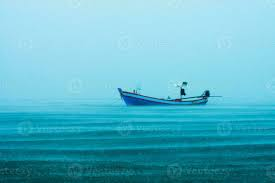boat: (119, 82, 222, 109)
